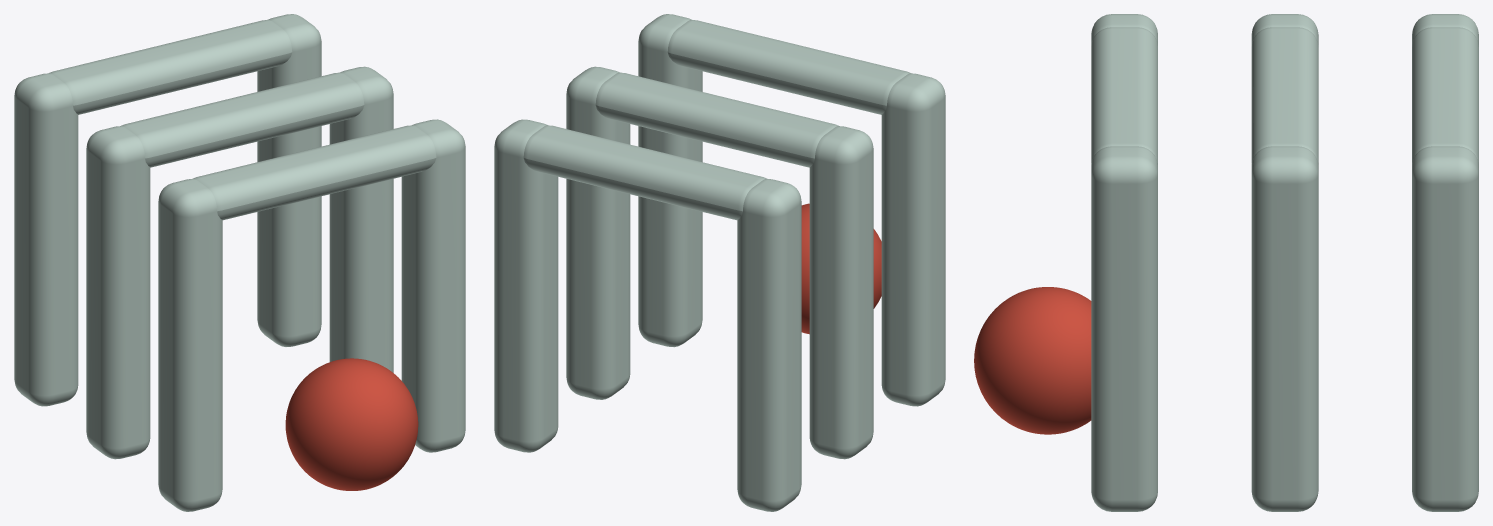
File: passage.glb
The picture shows the model from 3 angles, left to right: view 1: azimuth 30°, elevation 25°; view 2: azimuth 150°, elevation 25°; view 3: azimuth 270°, elevation 25°; orthographic projection. The views are drawn at different scales.
Parts seen in each view (by area): view 1: Cube.003, Cube.006, Cube, Cube.001, Cube.004, Sphere, Cube.007, Cube.005, Cube.002, Cube.008; view 2: Cube.003, Cube.006, Cube, Cube.007, Cube.004, Cube.001, Cube.008, Cube.005, Cube.002, Sphere; view 3: Cube.004, Cube.001, Cube.007, Sphere, Cube.005, Cube.002, Cube.008, Cube.003, Cube.006, Cube.
Boxes of the visible parts, x1,y1,x2,y2 form: Cube.003: (86,126,150,459); Cube.006: (14,73,78,406); Cube: (158,179,222,511); Cube.001: (401,119,465,452); Cube.004: (329,66,393,372); Sphere: (285,358,418,490); Cube.007: (257,14,321,346); Cube.005: (121,72,364,167); Cube.002: (192,125,436,220); Cube.008: (49,20,292,114); Cube.003: (809,126,873,459); Cube.006: (737,179,801,511); Cube: (881,73,945,406); Cube.007: (494,119,558,452); Cube.004: (566,66,630,399); Cube.001: (638,14,702,347); Cube.008: (523,125,767,220); Cube.005: (595,72,838,167); Cube.002: (667,20,910,114); Sphere: (801,203,881,334); Cube.004: (1251,146,1318,511); Cube.001: (1091,146,1157,511); Cube.007: (1412,146,1478,511); Sphere: (974,287,1091,434); Cube.005: (1251,27,1318,163); Cube.002: (1091,27,1157,163); Cube.008: (1412,27,1478,163); Cube.003: (1251,14,1318,165); Cube.006: (1412,14,1478,165); Cube: (1091,14,1157,164).
Bounding box in the file's own units: 2.68 × 2.8 × 3.62.
